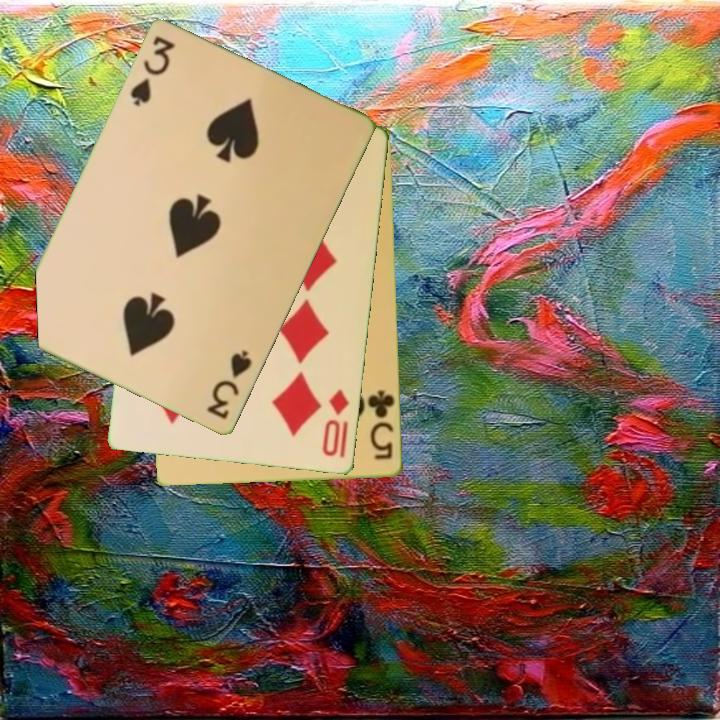10d: (319, 386, 353, 460)
3s: (126, 33, 179, 110), (203, 347, 256, 423)
5c: (364, 387, 398, 463)
